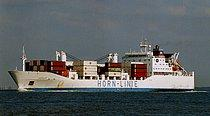Ship: (6, 39, 201, 97)
